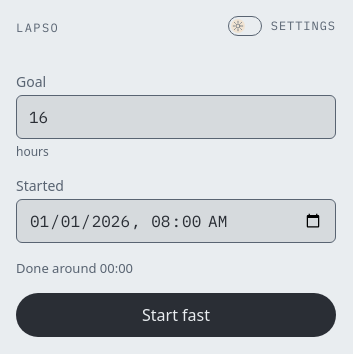
<Timer> idle state › shows the projected completion time, live as the goal changes (feature: completion time)
Expected: the text "Done around 00:00" is shown, 16,258 -> 133,276
Replace the text in the number field with "18" at (176, 116), box 16,94 -> 336,138
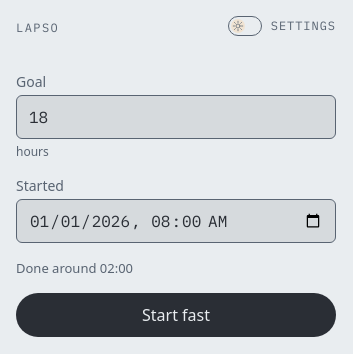
Expected: the text "Done around 02:00" is shown, 16,258 -> 133,276
